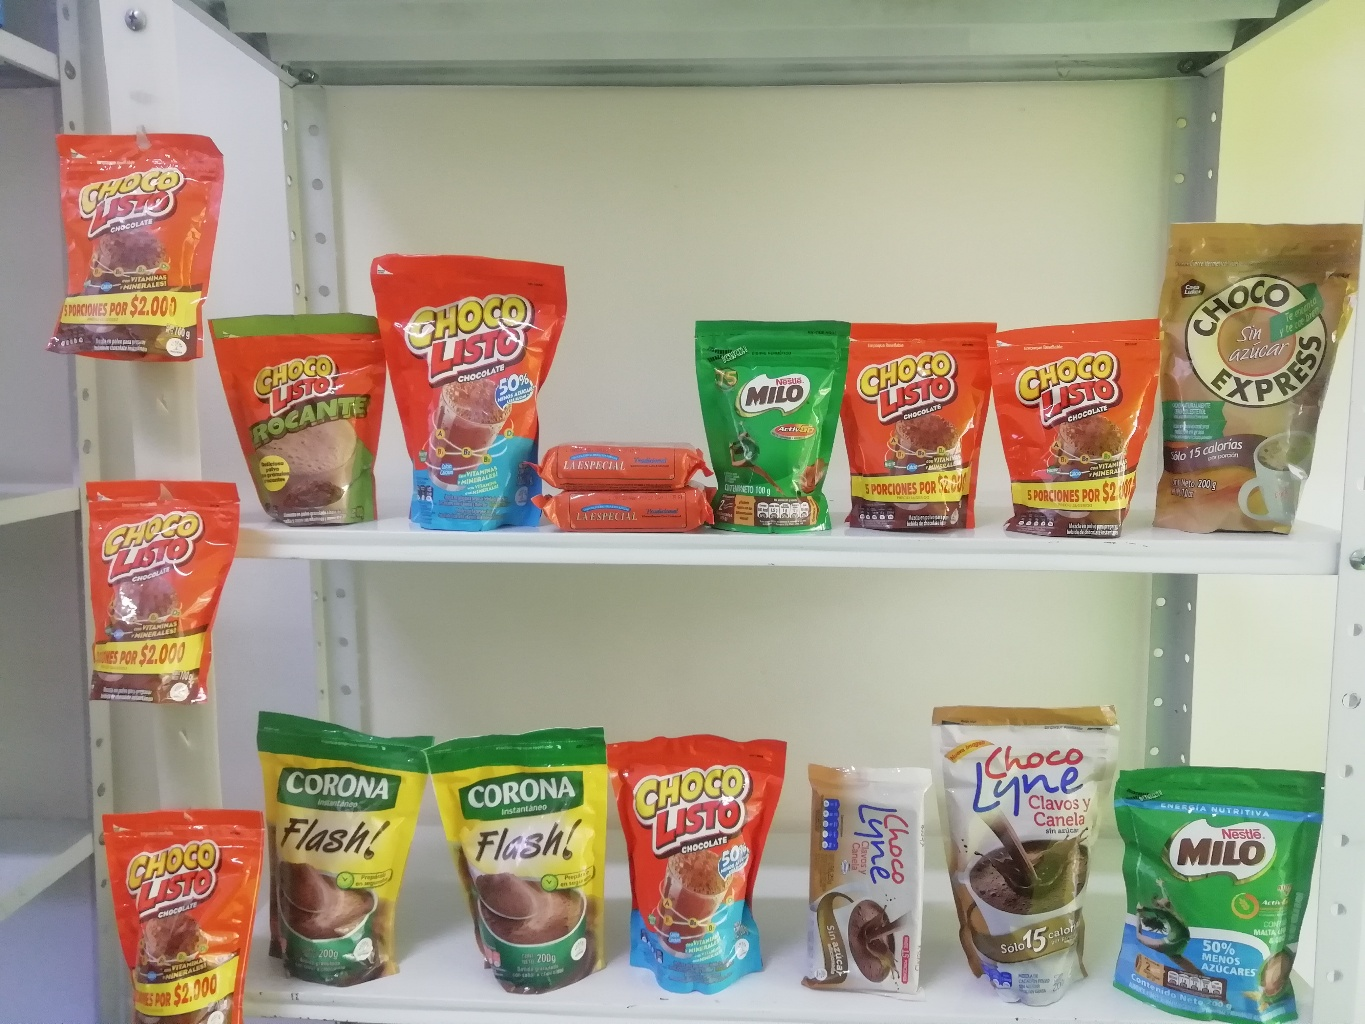COL0170102DYP10000: (207, 316, 400, 527)
COL0170103DYP10000: (44, 130, 226, 359)
COL0170104DYP20000: (369, 246, 568, 534)
COL0170203DYP10000: (693, 315, 853, 535)
COL0170205DYP20000: (1117, 760, 1331, 1023)
